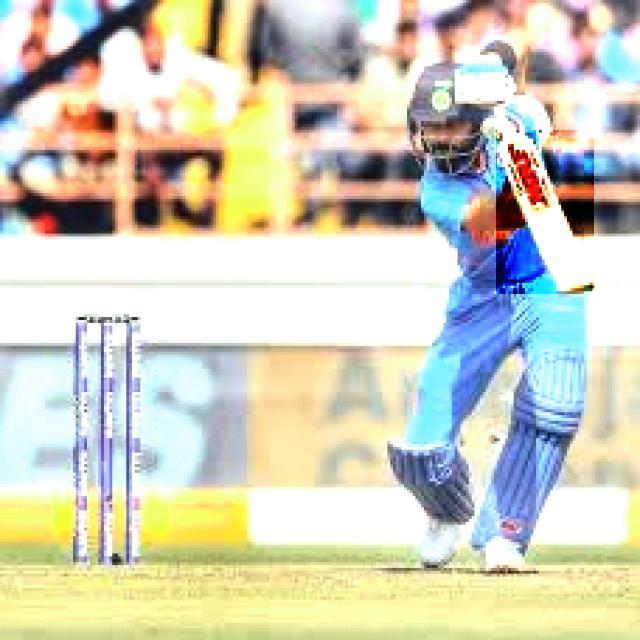bat: (494, 133, 595, 296)
toe: (560, 279, 596, 295)
